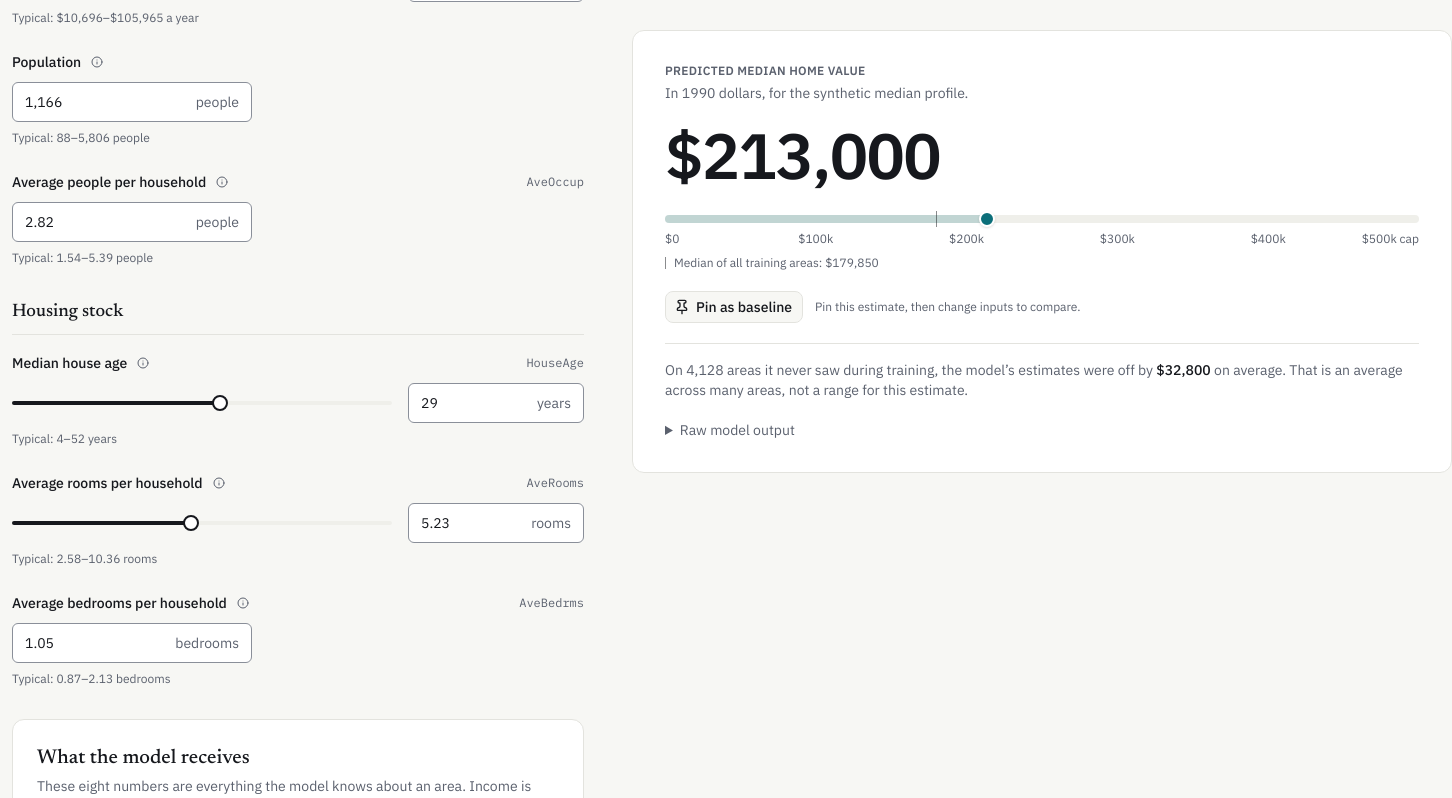
Test: Workbench predictions › asks again with the edited inputs
(page scrolled)
Check: the text "$213,000" is shown, box left=665, top=113, right=940, bottom=197
Replace the text in the field labelled "Median house age" with "45" at x=473, y=403, box left=409, top=384, right=537, bottom=422
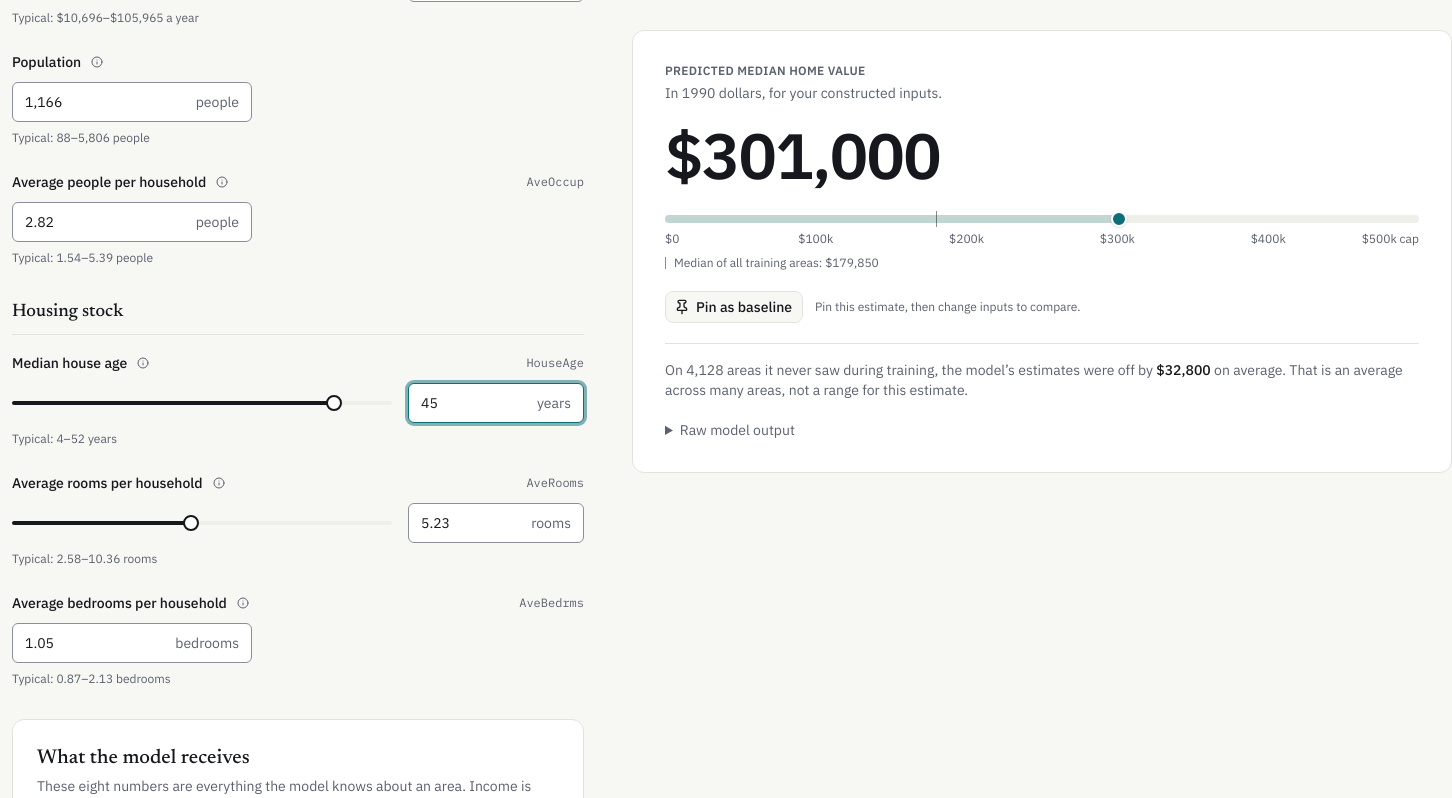
Check: the text with test id "prediction-value" reads "$301,000", box left=665, top=113, right=940, bottom=197
